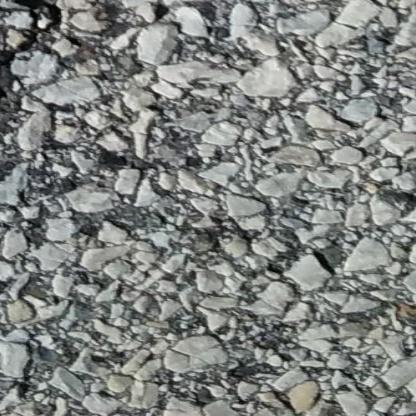Cracks: (0, 0, 70, 183)
